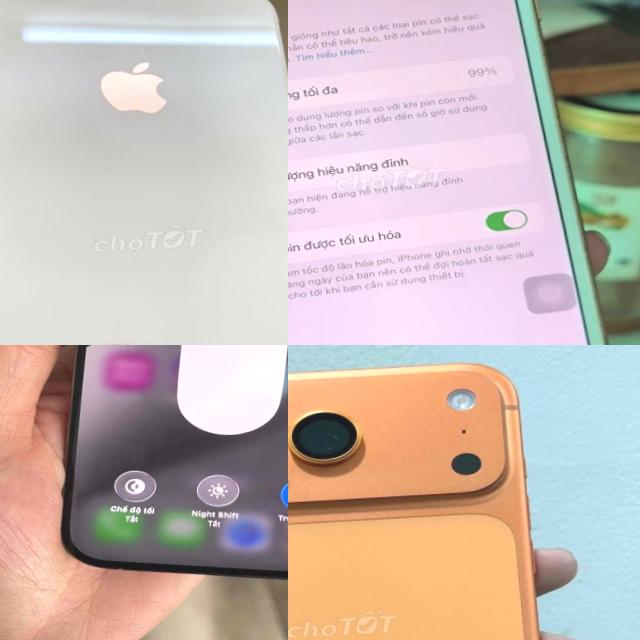screen_defect: (76, 345, 100, 351)
